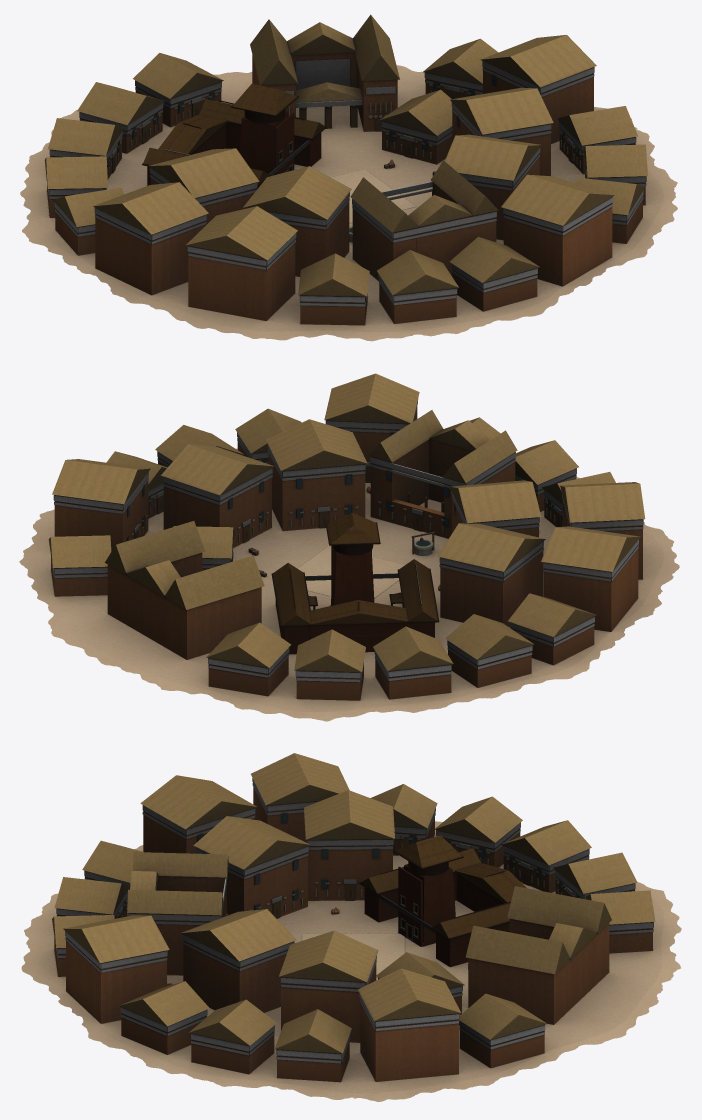
File: kingdoms-town-big-b-westafrica-3045ed64.glb
3 renders of one model, top to bottom at view 1: azimuth 30°, elevation 25°; view 2: azimuth 150°, elevation 25°; view 3: azimuth 270°, elevation 25°, orthographic.
Visible parts, largest first — view 1: LOD0; view 2: LOD0; view 3: LOD0.
Boxes of the visible parts, left/top/right/bottom form: LOD0: left=20, top=14, right=677, bottom=341; LOD0: left=19, top=373, right=679, bottom=721; LOD0: left=21, top=753, right=681, bottom=1101.
Size of what is drawn, in the model's own units: 7.99 by 1.27 by 7.91.
Materials: 3 (3 with a texture image).
